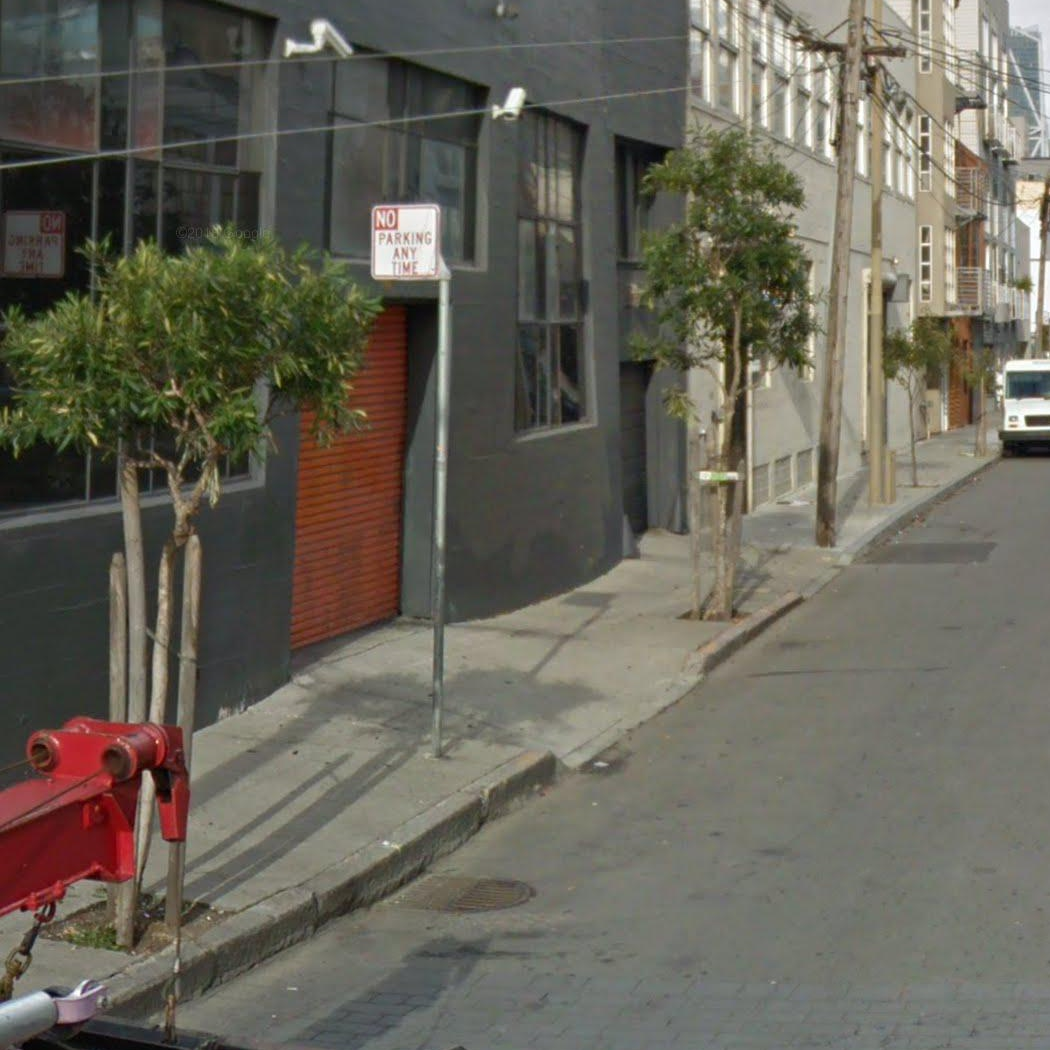No Parking Anytime: (370, 202, 442, 282)
